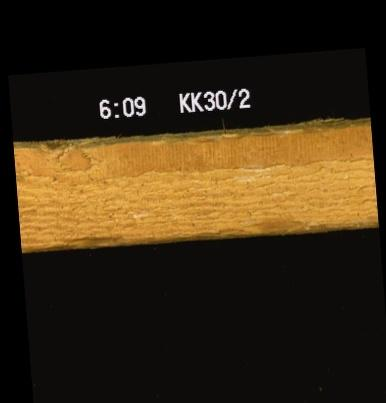edge_knot: (37, 138, 70, 151)
wave: (57, 223, 329, 245)
